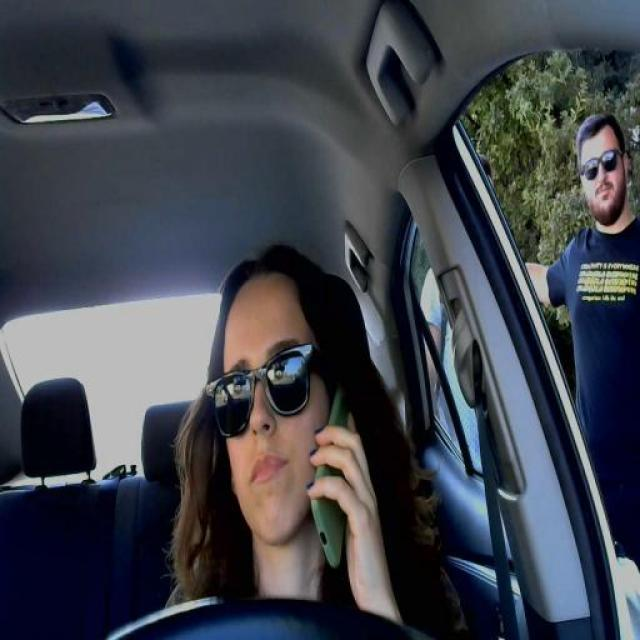phone: (308, 383, 359, 571)
